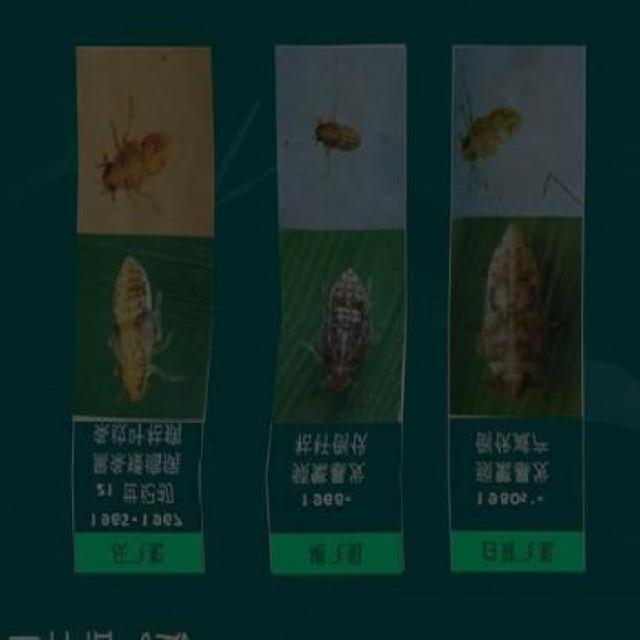brown-planthopper: (483, 220, 549, 402), (103, 247, 162, 405), (320, 264, 371, 398)
